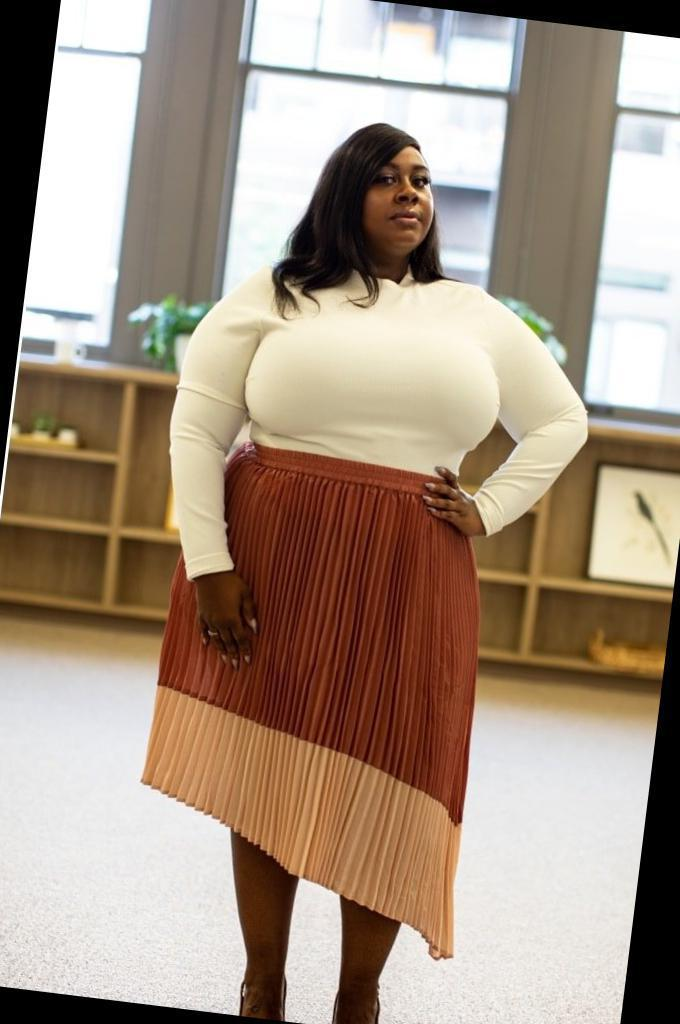Sober: (359, 142, 439, 244)
